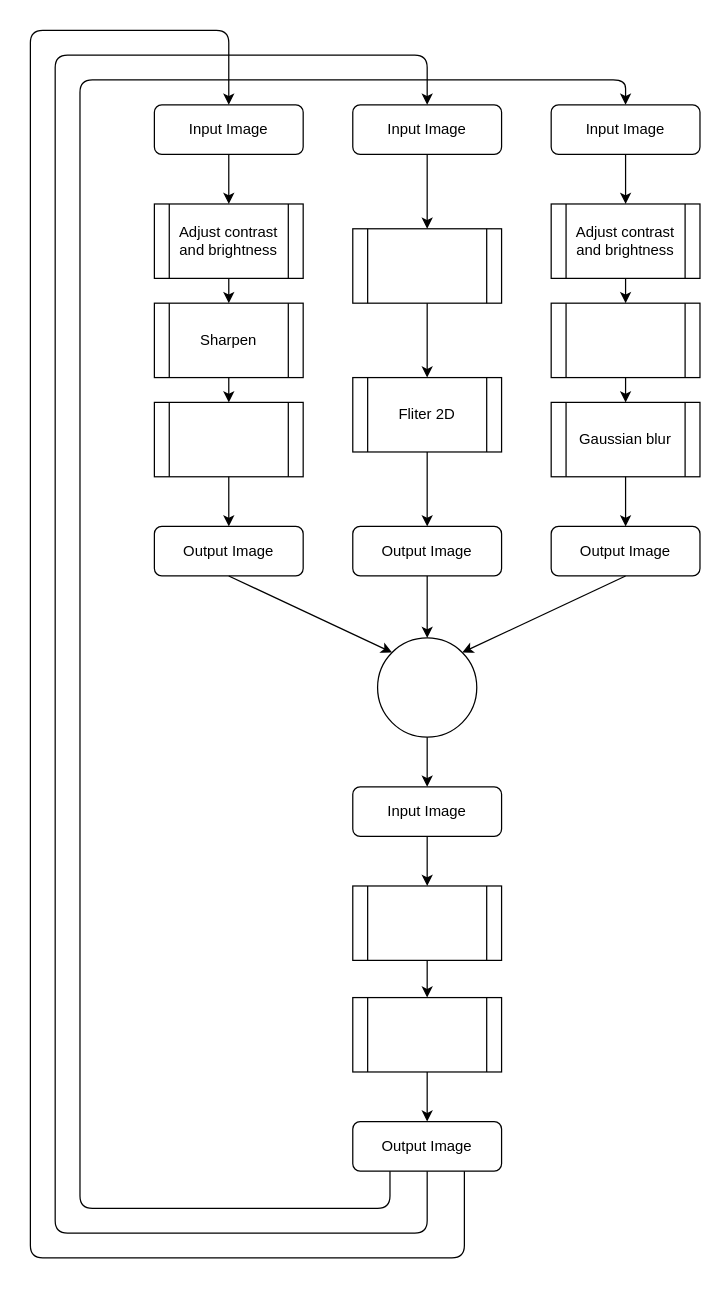
Some shapes in this 722 by 1290 pixel diagram are drawn without their labels. Here are the shapes that lost their labels. From the top down, the centre of each, then its label:
At (427,265): "Blur".
At (625,340): "Erode".
At (228,439): "Rotate and scale".
At (426,687): "Blend".
At (427,922): "Equalize histogram".
At (427,1034): "Shift hue".
